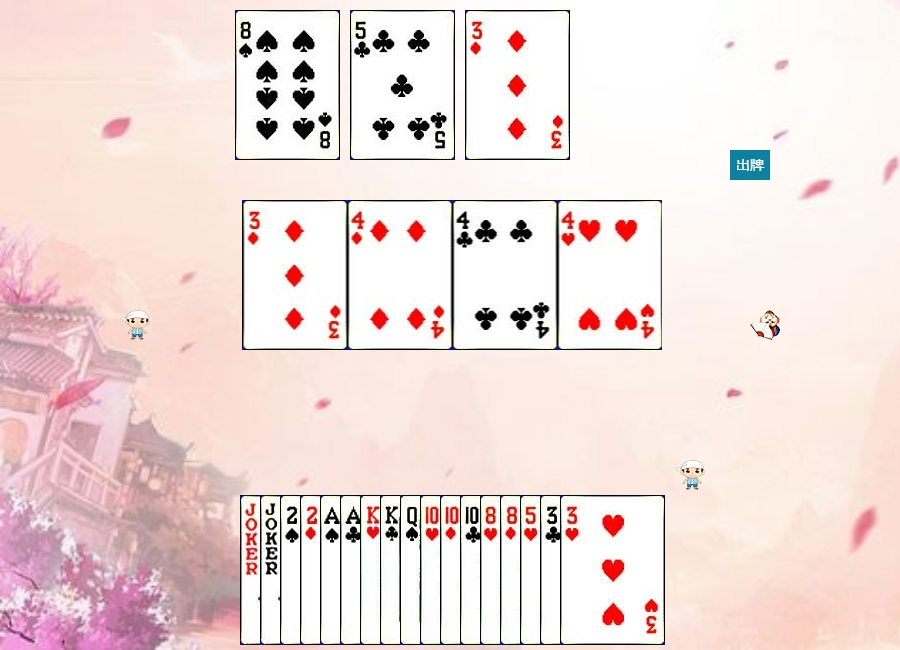10~1: (440, 495, 545, 645)
10~2: (460, 495, 565, 645)
10~3: (420, 495, 525, 645)
12~4: (400, 495, 505, 645)
13~2: (380, 495, 485, 645)
13~3: (360, 495, 465, 645)
14~2: (340, 495, 445, 645)
14~4: (320, 495, 425, 645)
15~1: (300, 495, 405, 645)
15~4: (280, 495, 385, 645)
17~3: (260, 495, 365, 645)
18~4: (240, 495, 345, 645)
3~1: (465, 10, 570, 160), (243, 200, 348, 350)
3~2: (540, 495, 645, 645)
3~3: (560, 495, 665, 645)
4~1: (348, 200, 453, 350)
4~2: (453, 200, 558, 350)
4~3: (558, 200, 663, 350)
5~2: (350, 10, 455, 160)
5~3: (520, 495, 625, 645)
8~1: (500, 495, 605, 645)
8~3: (480, 495, 585, 645)
8~4: (235, 10, 340, 160)
